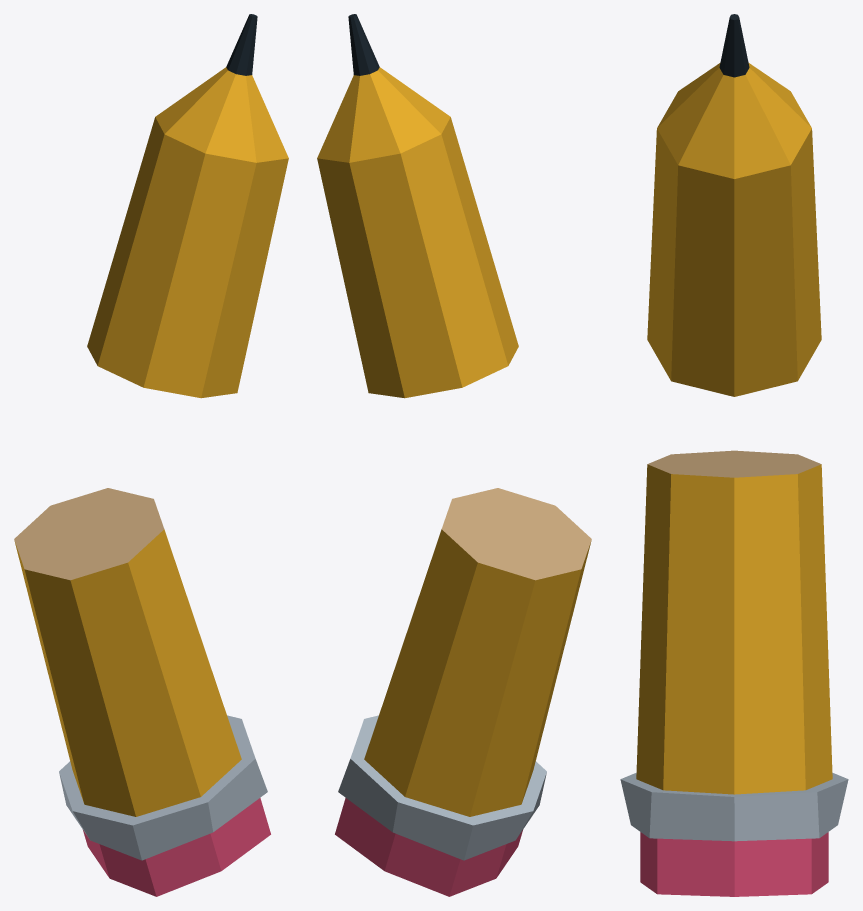
Rendered from broken-pencil.glb.
3 views of the same model, side by side, from view 1: azimuth 30°, elevation 25°; view 2: azimuth 150°, elevation 25°; view 3: azimuth 270°, elevation 25° (orthographic). The views are drawn at different scales.
Parts seen in each view (by area): view 1: Pencil_Wood1Pencil1 (×2), Fracture_cap_lower, Pencil_Ferrule1Pencil1, Pencil_Eraser1Pencil1, Pencil_Lead1Pencil1; view 2: Pencil_Wood1Pencil1 (×2), Fracture_cap_lower, Pencil_Ferrule1Pencil1, Pencil_Eraser1Pencil1, Pencil_Lead1Pencil1; view 3: Pencil_Wood1Pencil1 (×2), Pencil_Ferrule1Pencil1, Pencil_Eraser1Pencil1, Fracture_cap_lower, Pencil_Lead1Pencil1.
Boxes of the visible parts, <box> form: Pencil_Wood1Pencil1 (×2): <box>14,67,288,816</box>; Fracture_cap_lower: <box>14,488,164,580</box>; Pencil_Ferrule1Pencil1: <box>59,715,267,860</box>; Pencil_Eraser1Pencil1: <box>82,798,270,896</box>; Pencil_Lead1Pencil1: <box>226,14,257,75</box>; Pencil_Wood1Pencil1 (×2): <box>317,67,591,816</box>; Fracture_cap_lower: <box>441,488,591,580</box>; Pencil_Ferrule1Pencil1: <box>338,715,546,860</box>; Pencil_Eraser1Pencil1: <box>335,798,523,896</box>; Pencil_Lead1Pencil1: <box>348,14,379,75</box>; Pencil_Wood1Pencil1 (×2): <box>636,63,832,794</box>; Pencil_Ferrule1Pencil1: <box>620,772,848,841</box>; Pencil_Eraser1Pencil1: <box>640,832,828,896</box>; Fracture_cap_lower: <box>647,450,821,477</box>; Pencil_Lead1Pencil1: <box>719,14,749,77</box>.
Bounding box in the file's own units: 0.8381 × 2.6 × 0.5787.
